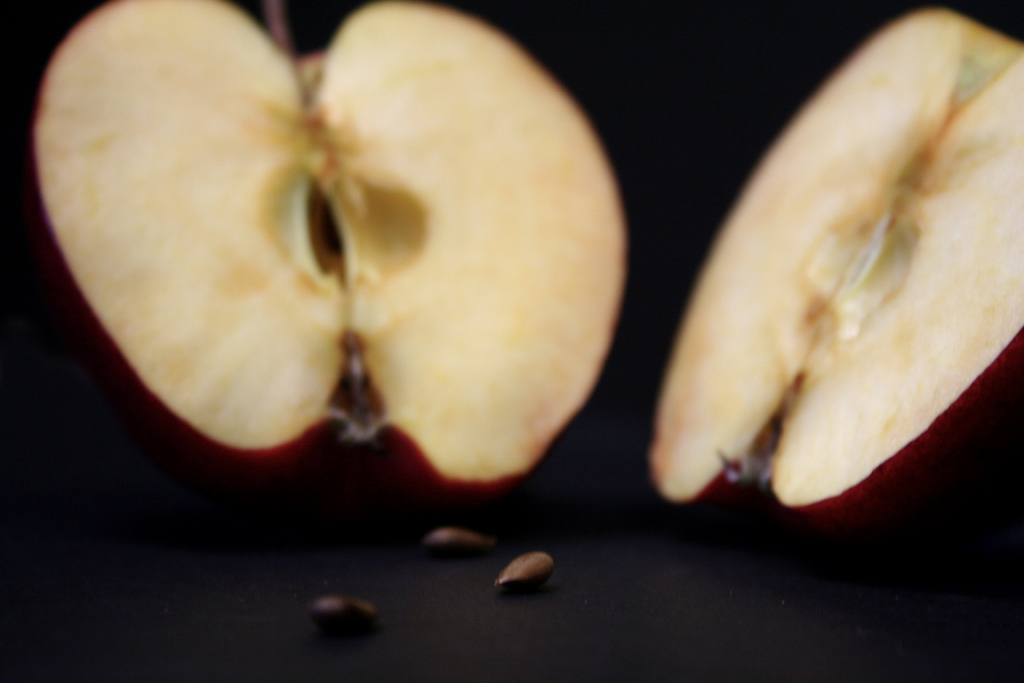Apple: (49, 0, 620, 506), (643, 8, 1023, 531)
